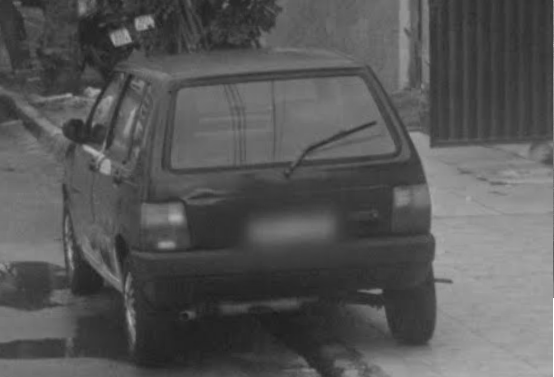car: (54, 47, 446, 365)
